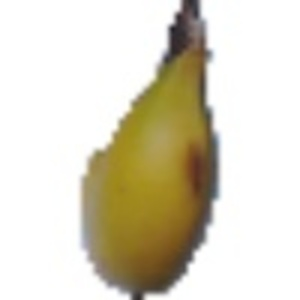banana: (69, 17, 226, 294)
